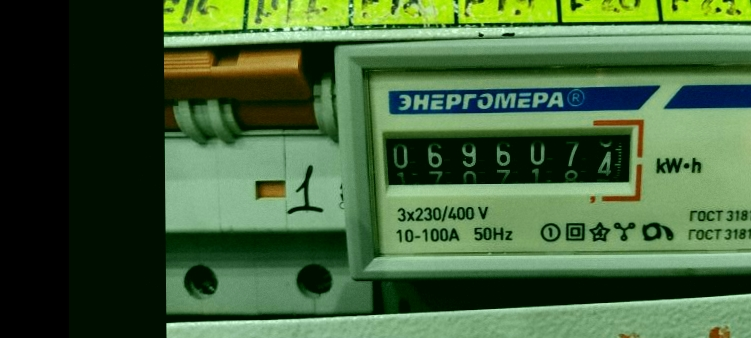0: (392, 140, 411, 169), (528, 138, 547, 165)
4: (596, 149, 614, 177)
6: (495, 138, 513, 166), (426, 141, 444, 168)
7: (563, 138, 582, 168)
9: (460, 141, 478, 169)
screen: (370, 115, 650, 204)
